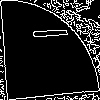I: (24, 25, 68, 43)
